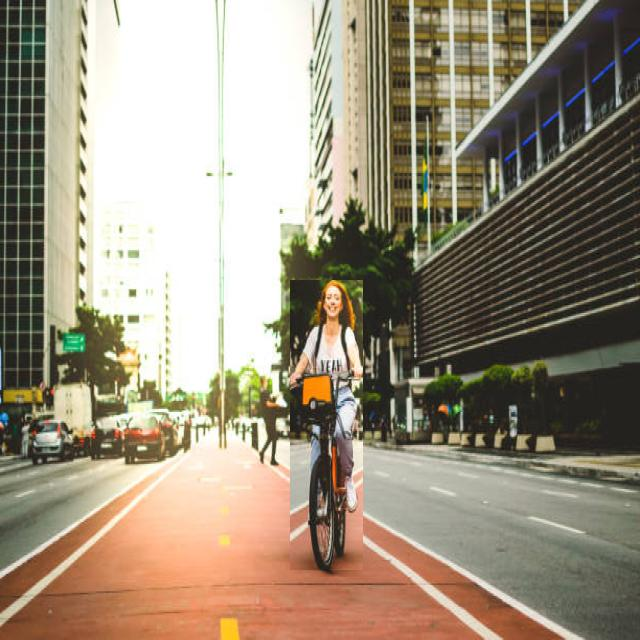bicycle: (290, 280, 362, 570)
